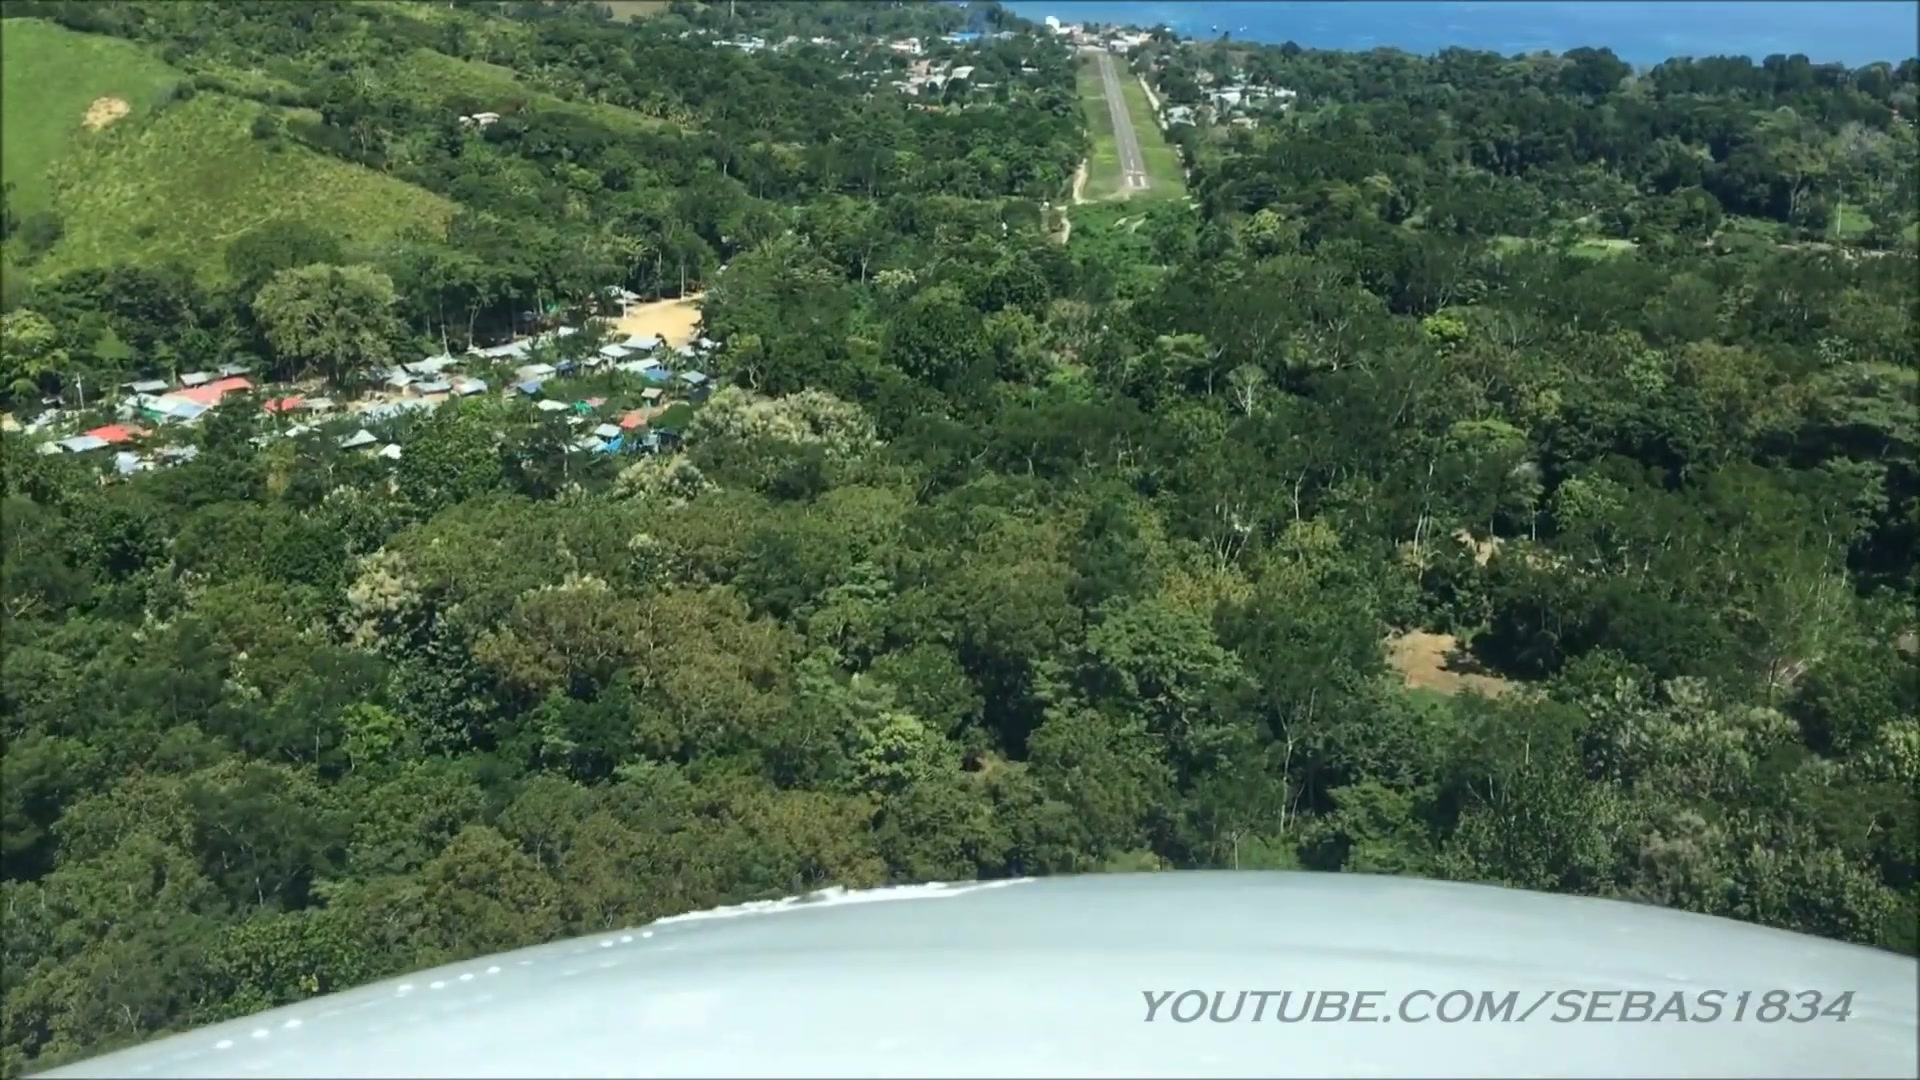runway: (1098, 55, 1151, 191)
